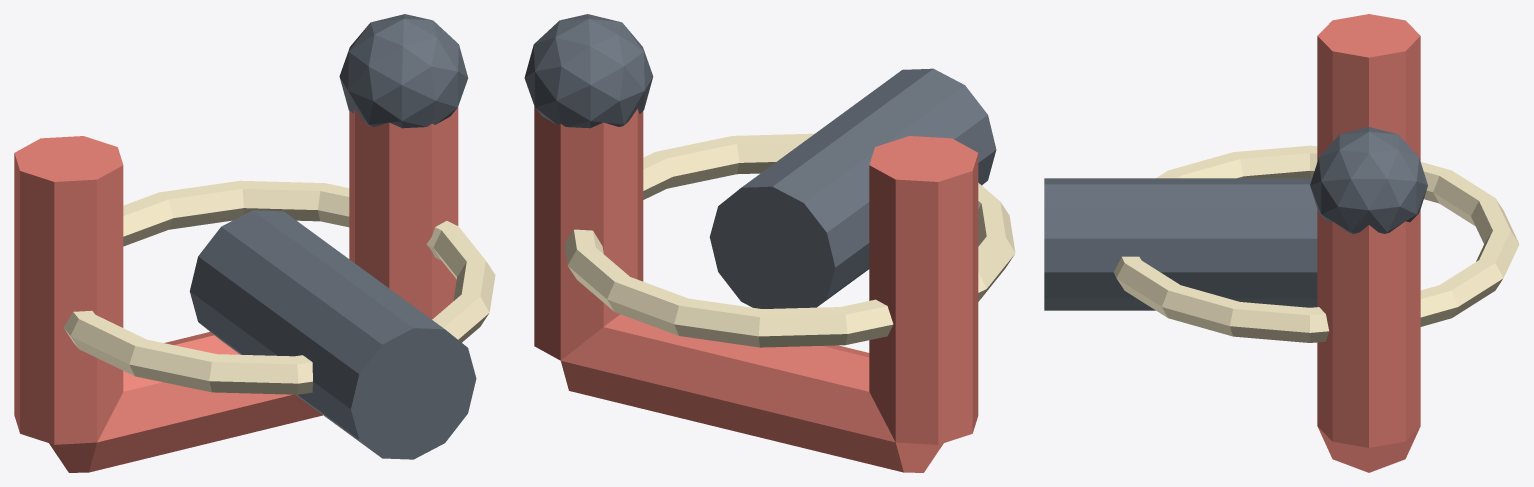
File: iman_2.glb
3 views of the same model, side by side, from view 1: azimuth 30°, elevation 25°; view 2: azimuth 150°, elevation 25°; view 3: azimuth 270°, elevation 25° (orthographic). The views are drawn at different scales.
Parts seen in each view (by area): view 1: mango, herradura_izq, bobina, herradura_der, herradura_base, polo; view 2: herradura_izq, mango, herradura_base, bobina, herradura_der, polo; view 3: mango, herradura_der, bobina, herradura_izq, polo, herradura_base.
Part boxes in pixels (bbox=[...]): mango: bbox=[189, 210, 476, 459]; herradura_izq: bbox=[14, 136, 123, 444]; bobina: bbox=[63, 180, 495, 394]; herradura_der: bbox=[349, 107, 458, 319]; herradura_base: bbox=[49, 332, 322, 472]; polo: bbox=[339, 14, 468, 128]; herradura_izq: bbox=[869, 136, 978, 444]; mango: bbox=[709, 68, 996, 308]; herradura_base: bbox=[561, 314, 943, 472]; bobina: bbox=[564, 133, 1015, 347]; herradura_der: bbox=[534, 106, 643, 360]; polo: bbox=[524, 14, 653, 128]; mango: bbox=[1044, 178, 1317, 310]; herradura_der: bbox=[1317, 209, 1420, 447]; bobina: bbox=[1114, 145, 1519, 342]; herradura_izq: bbox=[1317, 14, 1420, 161]; polo: bbox=[1310, 127, 1427, 233]; herradura_base: bbox=[1318, 426, 1420, 472].
Bounding box in the file's own units: 0.8804 × 0.7127 × 0.9.
